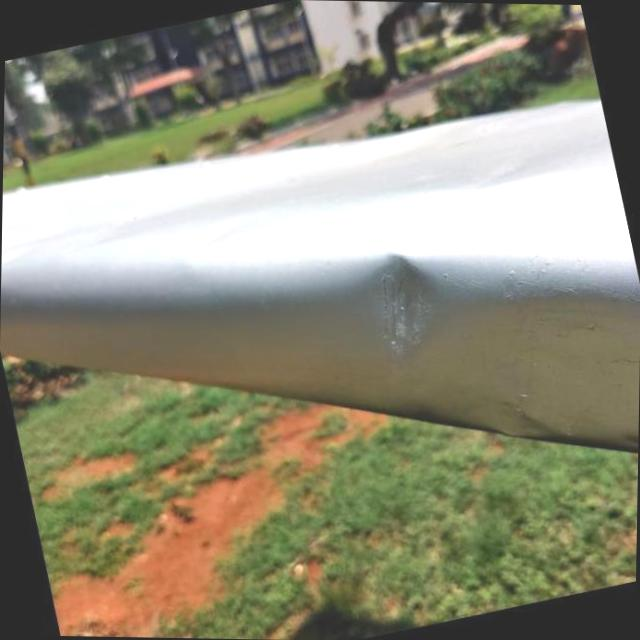dent: (358, 252, 434, 358), (455, 370, 568, 435)
